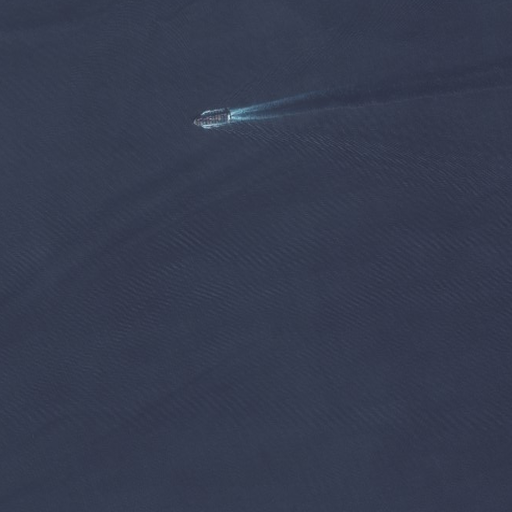ship: (191, 107, 234, 132)
